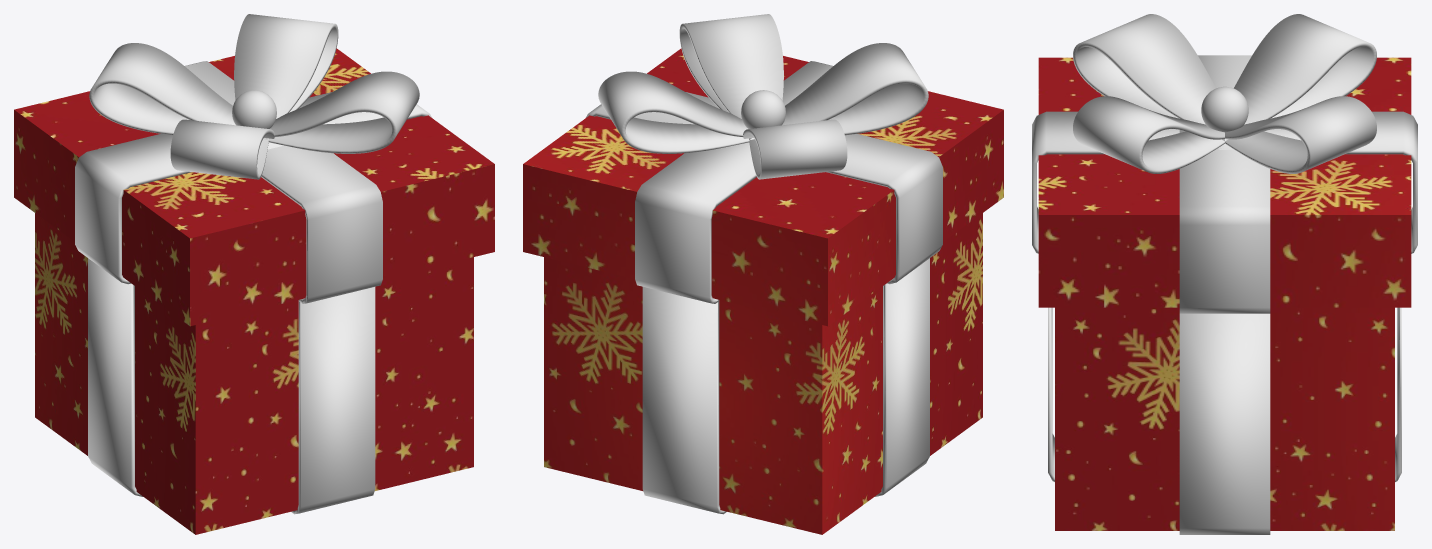
The model's file is large2.fbx.
The picture shows the model from 3 angles, left to right: view 1: azimuth 30°, elevation 25°; view 2: azimuth 150°, elevation 25°; view 3: azimuth 270°, elevation 25°; orthographic projection. The views are drawn at different scales.
Visible parts, largest first — view 1: Cube, Cube.001, NURBSパス, 球; view 2: Cube, Cube.001, NURBSパス, 球; view 3: Cube, Cube.001, NURBSパス, 球.
Boxes of the visible parts, x1,y1,x2,y2 form: Cube: (14,48,494,534); Cube.001: (75,61,431,514); NURBSパス: (89,14,419,179); 球: (232,90,276,128); Cube: (523,48,1003,534); Cube.001: (586,61,942,514); NURBSパス: (598,14,928,179); 球: (741,90,785,128); Cube: (1038,57,1411,530); Cube.001: (1032,55,1417,534); NURBSパス: (1073,14,1376,173); 球: (1201,86,1248,132).
Size of the model in its own units: 96.39 by 109 by 96.39.
